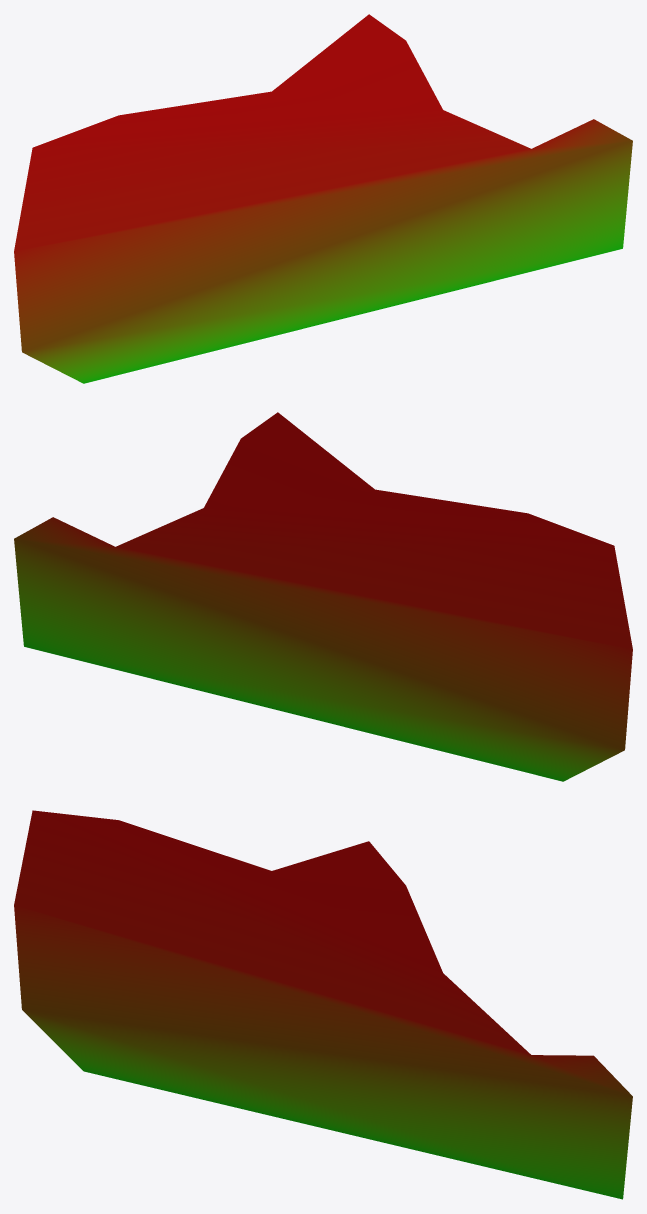
The model's file is River Saltbush_LOD4_Var2_vdfpcgbia.fbx.
The picture shows the model from 3 angles, top to bottom: view 1: azimuth 30°, elevation 25°; view 2: azimuth 150°, elevation 25°; view 3: azimuth 330°, elevation 25°; orthographic projection.
Parts seen in each view (by area): view 1: _22jj_Var2_LOD4; view 2: _22jj_Var2_LOD4; view 3: _22jj_Var2_LOD4.
Boxes of the visible parts, x1=… form: _22jj_Var2_LOD4: x1=14, y1=14, x2=632, y2=383; _22jj_Var2_LOD4: x1=14, y1=412, x2=632, y2=781; _22jj_Var2_LOD4: x1=14, y1=810, x2=632, y2=1199.
Size of the model in its own units: 88.1 by 40.79 by 1.78e-06.
